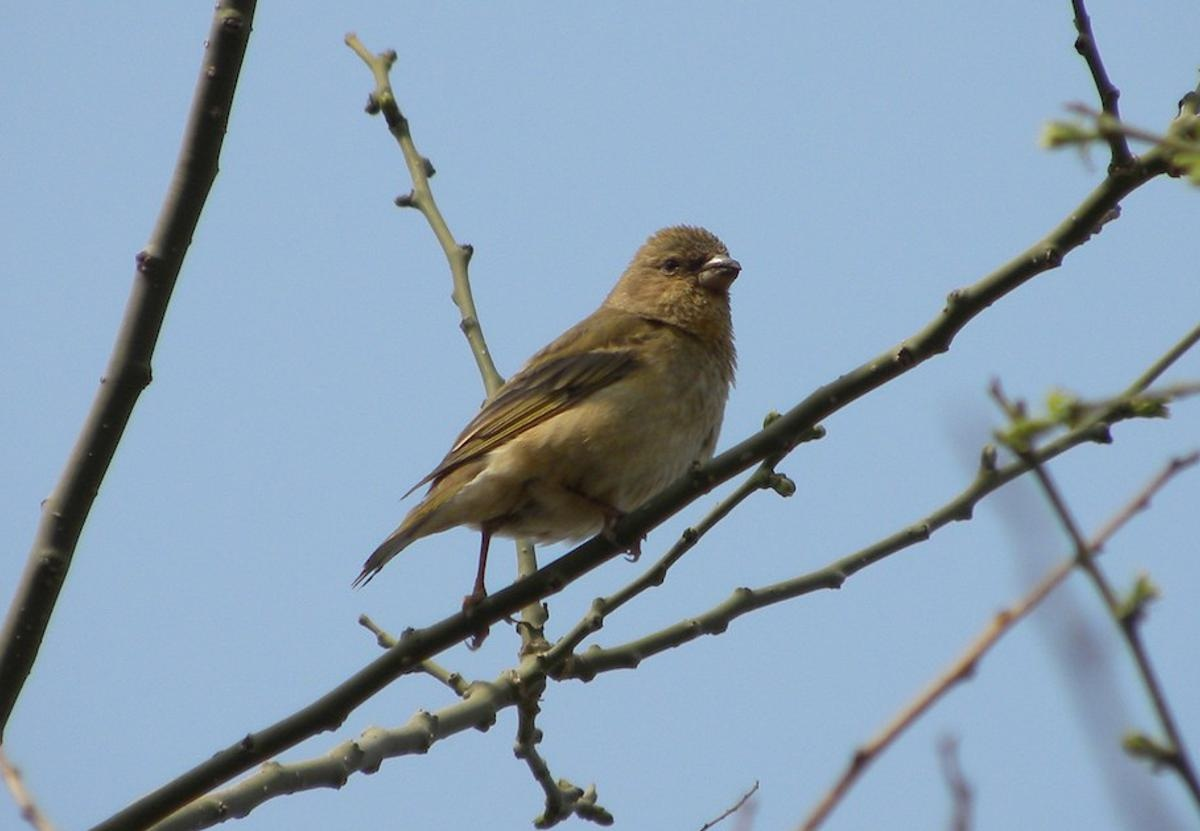rosefinch: (389, 173, 795, 597)
